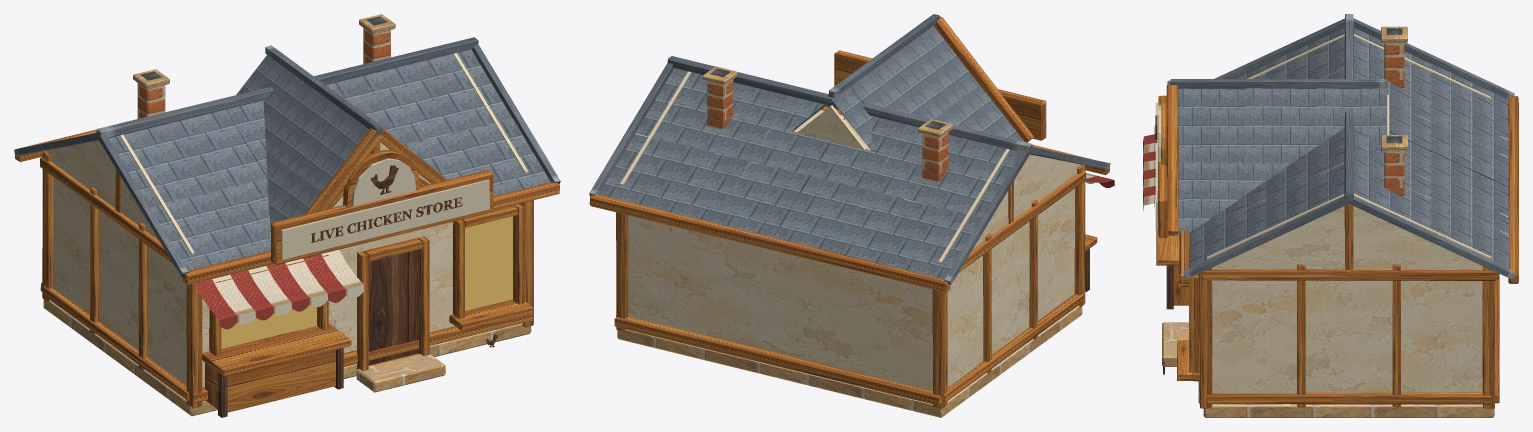
File: ChickenStore_Cozy_LOD2.fbx
3 views of the same model, side by side, from view 1: azimuth 30°, elevation 25°; view 2: azimuth 150°, elevation 25°; view 3: azimuth 270°, elevation 25° (orthographic). The views are drawn at different scales.
Visible parts, largest first — view 1: ChickenStore_Cozy_LOD2; view 2: ChickenStore_Cozy_LOD2; view 3: ChickenStore_Cozy_LOD2.
Boxes of the visible parts, bbox=[...] form: ChickenStore_Cozy_LOD2: bbox=[14, 14, 560, 417]; ChickenStore_Cozy_LOD2: bbox=[589, 14, 1114, 417]; ChickenStore_Cozy_LOD2: bbox=[1143, 14, 1518, 417].
Bounding box in the file's own units: 9 × 5.95 × 7.88.
